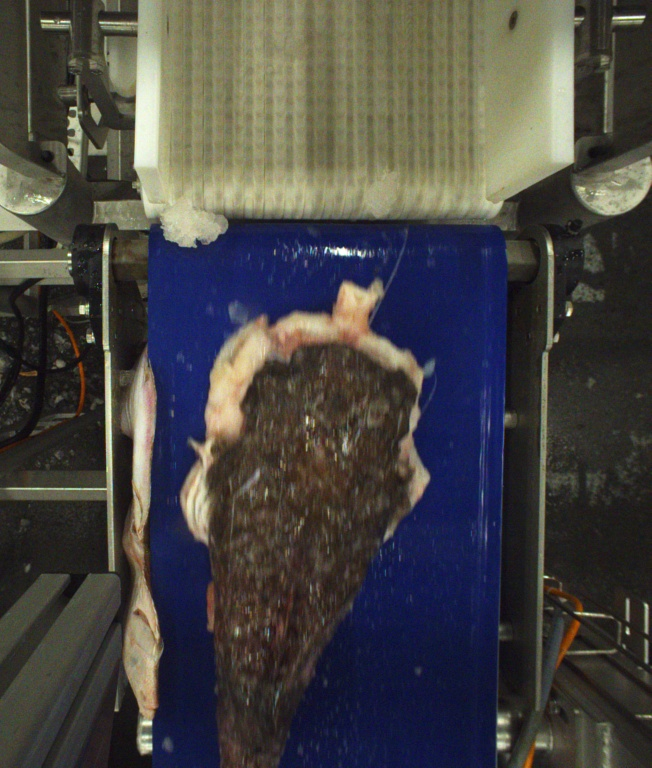ANF: (182, 279, 429, 768)
